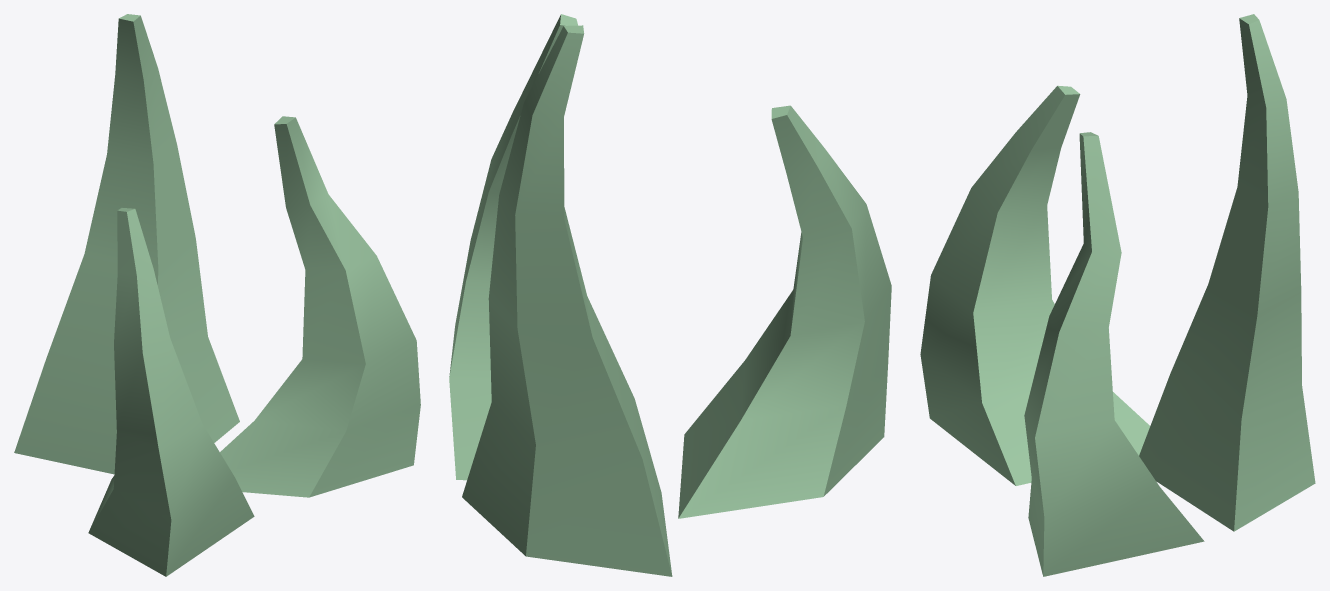
File: Grass_Mystic_01.fbx
3 views of the same model, side by side, from view 1: azimuth 30°, elevation 25°; view 2: azimuth 150°, elevation 25°; view 3: azimuth 270°, elevation 25° (orthographic). The views are drawn at different scales.
Visible parts, largest first — view 1: Grass3, Grass2, Grass1; view 2: Grass2, Grass1, Grass3; view 3: Grass2, Grass1, Grass3.
Boxes of the visible parts, <box> form: Grass3: <box>220,116,420,497</box>; Grass2: <box>14,14,239,474</box>; Grass1: <box>88,208,254,576</box>; Grass2: <box>462,25,672,576</box>; Grass1: <box>678,105,891,518</box>; Grass3: <box>449,14,577,480</box>; Grass2: <box>1139,14,1315,531</box>; Grass1: <box>920,85,1150,485</box>; Grass3: <box>1024,132,1204,576</box>.
Bounding box in the file's own units: 25.15 × 31.41 × 24.53.
